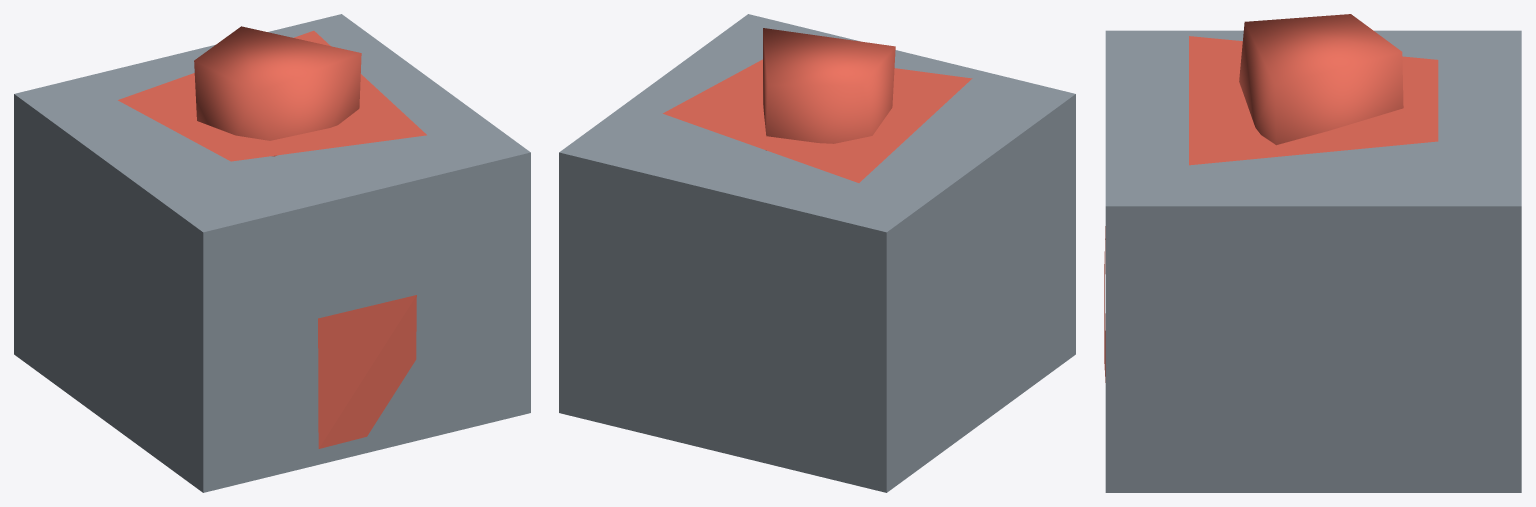
The model's file is SU_SuperweaponSilo_LOD2.glb.
The picture shows the model from 3 angles, left to right: view 1: azimuth 30°, elevation 25°; view 2: azimuth 150°, elevation 25°; view 3: azimuth 270°, elevation 25°; orthographic projection. The views are drawn at different scales.
Parts seen in each view (by area): view 1: EntranceGate; view 2: EntranceGate; view 3: EntranceGate.
Part boxes in pixels (<box>): EntranceGate: <box>14,14,530,492</box>; EntranceGate: <box>559,14,1075,492</box>; EntranceGate: <box>1104,14,1521,492</box>.
Size of the model in its own units: 1000 by 950 by 1003.
